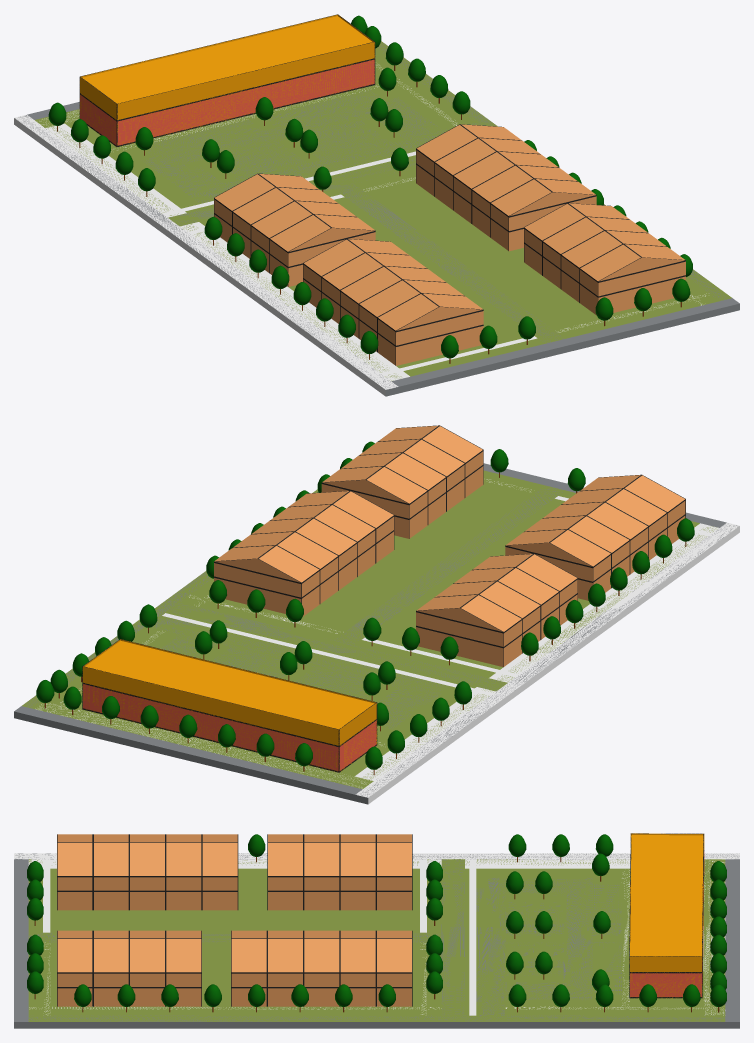
The model's file is 225_townhome_commercial_C1.dae.
The picture shows the model from 3 angles, top to bottom: view 1: azimuth 30°, elevation 25°; view 2: azimuth 150°, elevation 25°; view 3: azimuth 270°, elevation 25°; orthographic projection. The views are drawn at different scales.
Visible parts, largest first — view 1: group_3 (×17), Component_4 (×30), _10k_Commercial_2 (×6); view 2: group_3 (×17), Component_4 (×30), _10k_Commercial_2 (×6); view 3: group_3 (×21), Component_4 (×63), _10k_Commercial_2 (×4).
Boxes of the visible parts, left/top/right/bottom form: group_3 (×17): left=14, top=41, right=739, bottom=396; Component_4 (×30): left=214, top=125, right=685, bottom=365; _10k_Commercial_2 (×6): left=79, top=14, right=375, bottom=146; group_3 (×17): left=14, top=463, right=739, bottom=804; Component_4 (×30): left=214, top=426, right=684, bottom=666; _10k_Commercial_2 (×6): left=82, top=639, right=377, bottom=772; group_3 (×21): left=14, top=853, right=739, bottom=1028; Component_4 (×63): left=57, top=834, right=411, bottom=1006; _10k_Commercial_2 (×4): left=629, top=833, right=704, bottom=998.
Size of the model in its own units: 53.63 by 97.5 by 8.
